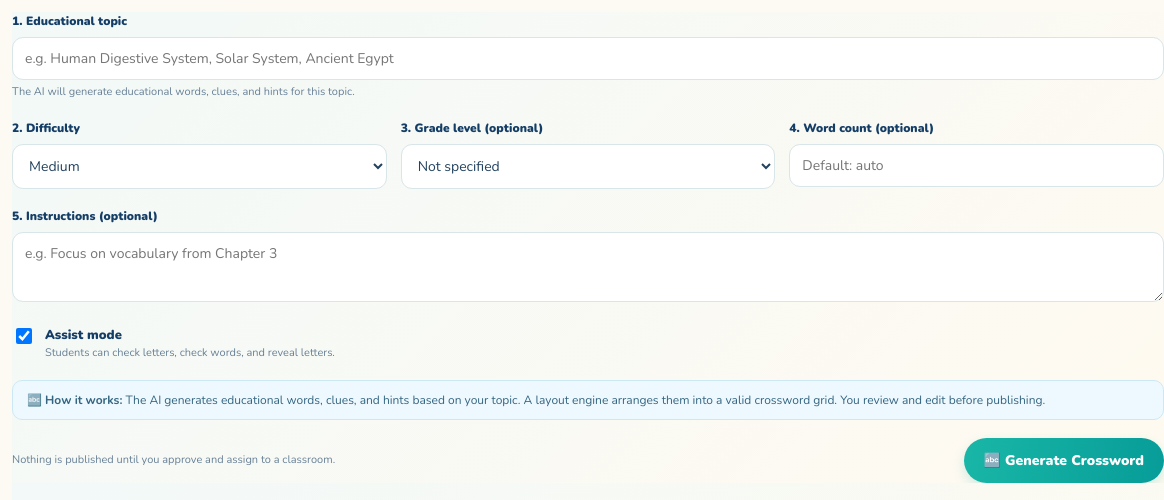
shows loading state while request is in flight
In the field named "crossword topic": point(588, 58) [12, 37, 1163, 80], type "Volcanoes"
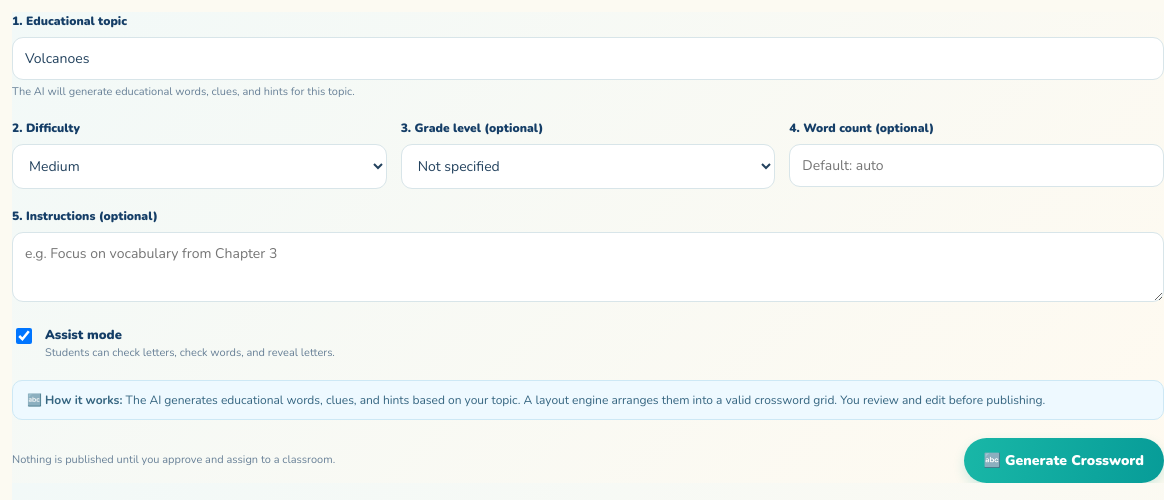
Click the button "🔤 Generate Crossword": point(1064, 460) [964, 438, 1163, 482]
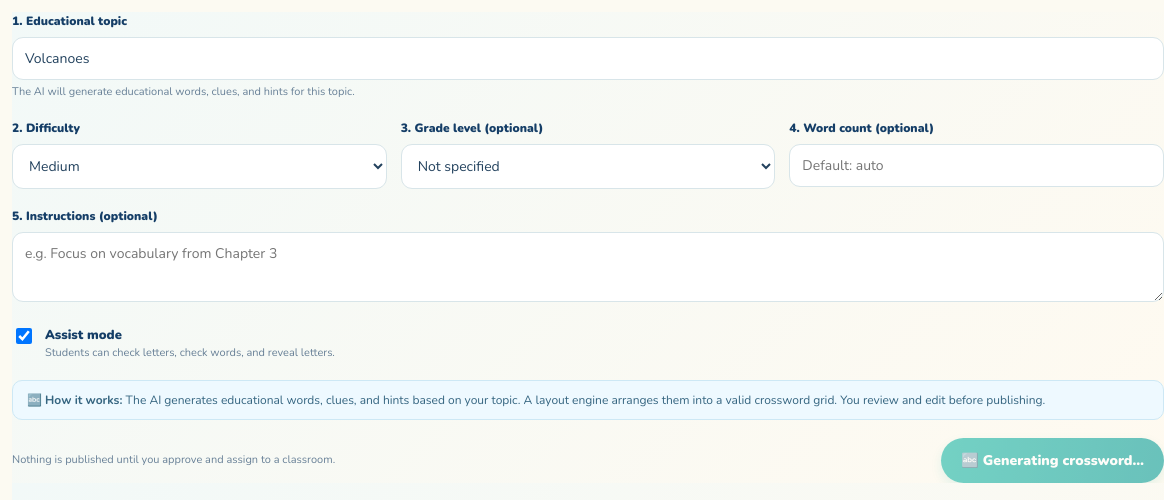
Now the button "🔤 Generating crossword…" is disabled, box [941, 438, 1163, 482]
